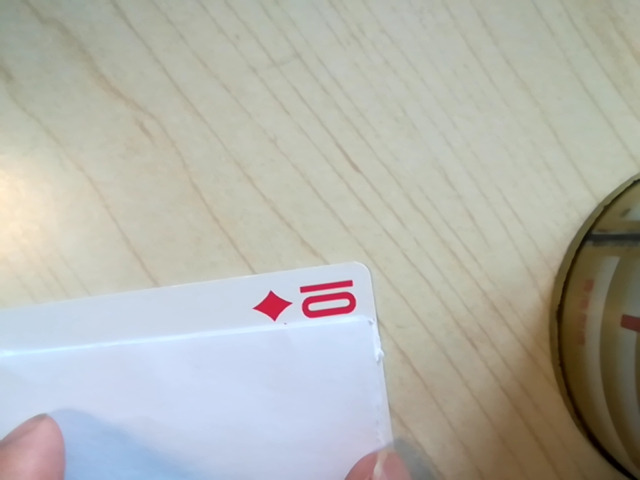fk 10: (253, 276, 368, 329)
